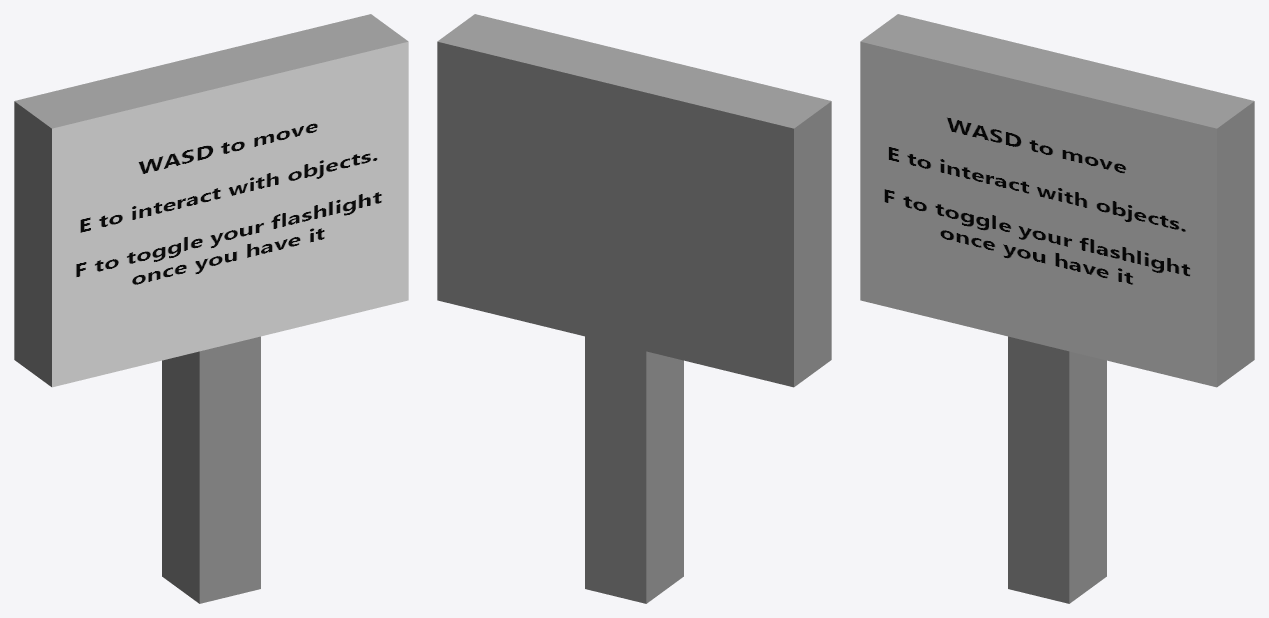
File: Sign.fbx
The picture shows the model from 3 angles, left to right: view 1: azimuth 30°, elevation 25°; view 2: azimuth 150°, elevation 25°; view 3: azimuth 330°, elevation 25°; orthographic projection.
Parts seen in each view (by area): view 1: pCube1; view 2: pCube1; view 3: pCube1.
Boxes of the visible parts, x1=… form: pCube1: x1=14, y1=14, x2=408, y2=603; pCube1: x1=437, y1=14, x2=831, y2=603; pCube1: x1=860, y1=14, x2=1254, y2=603.
Size of the model in its own units: 11.3 by 15.48 by 2.07.
